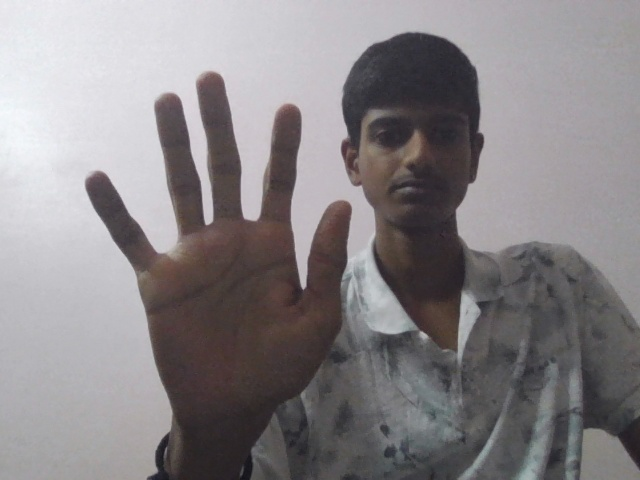hello: (77, 69, 362, 476)
